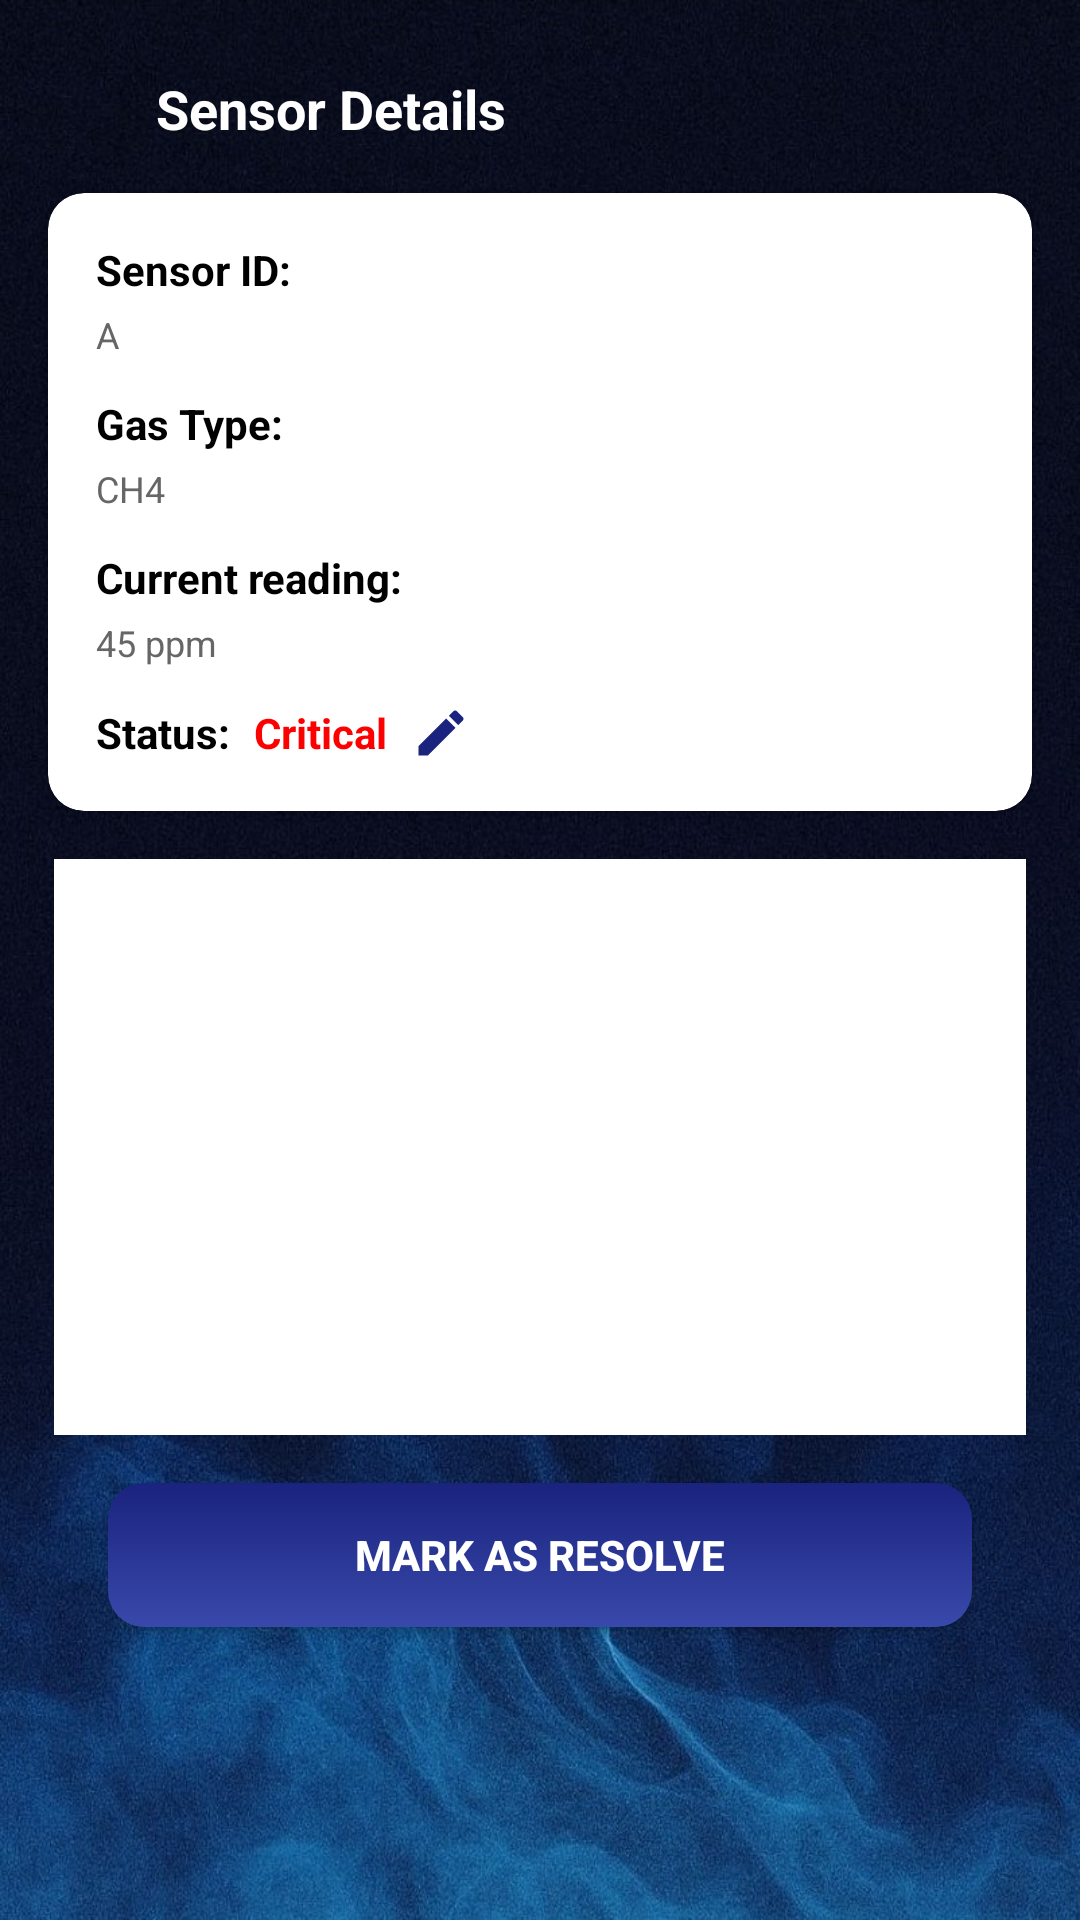

Icons on this 1080px x 1920px Android screen, each with the point to tap as (x,y):
edit: (441,733)
